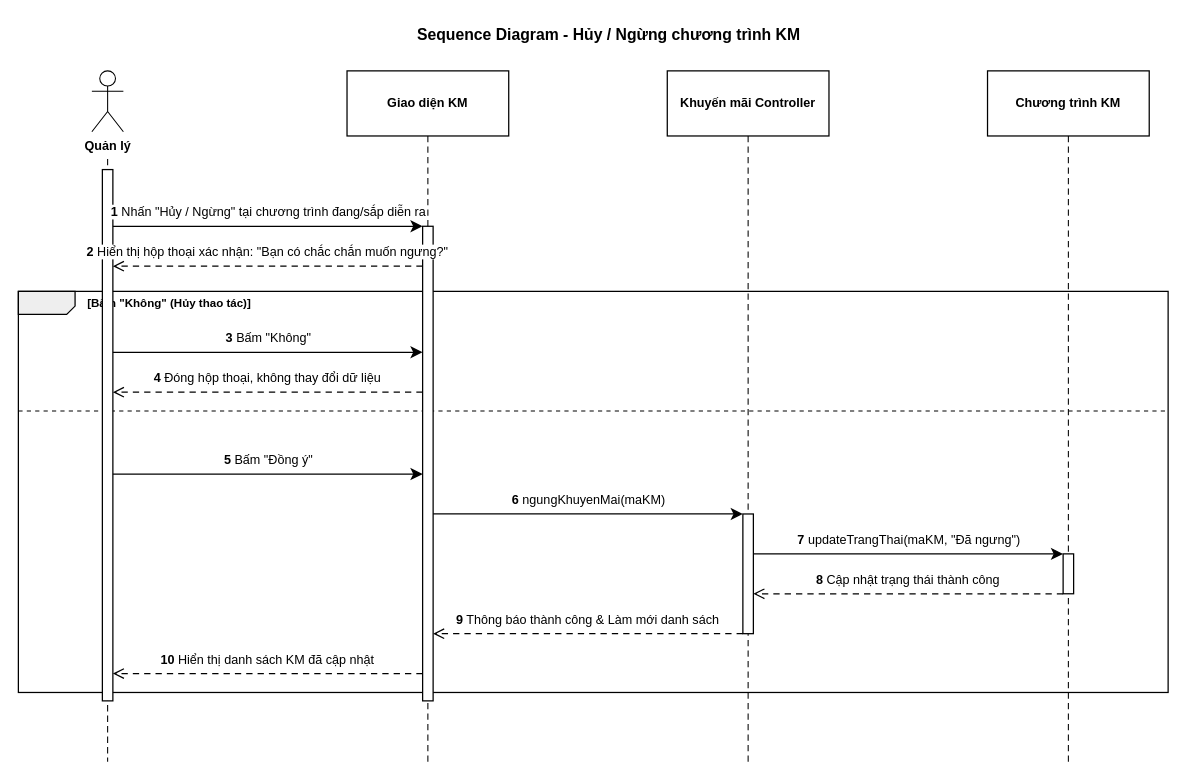
This 1189x781 diagram has some shape labels left out. Each missing label, with the centre of its shape:
[Bấm "Đồng ý"]: (87,423)
alt: (46,302)
